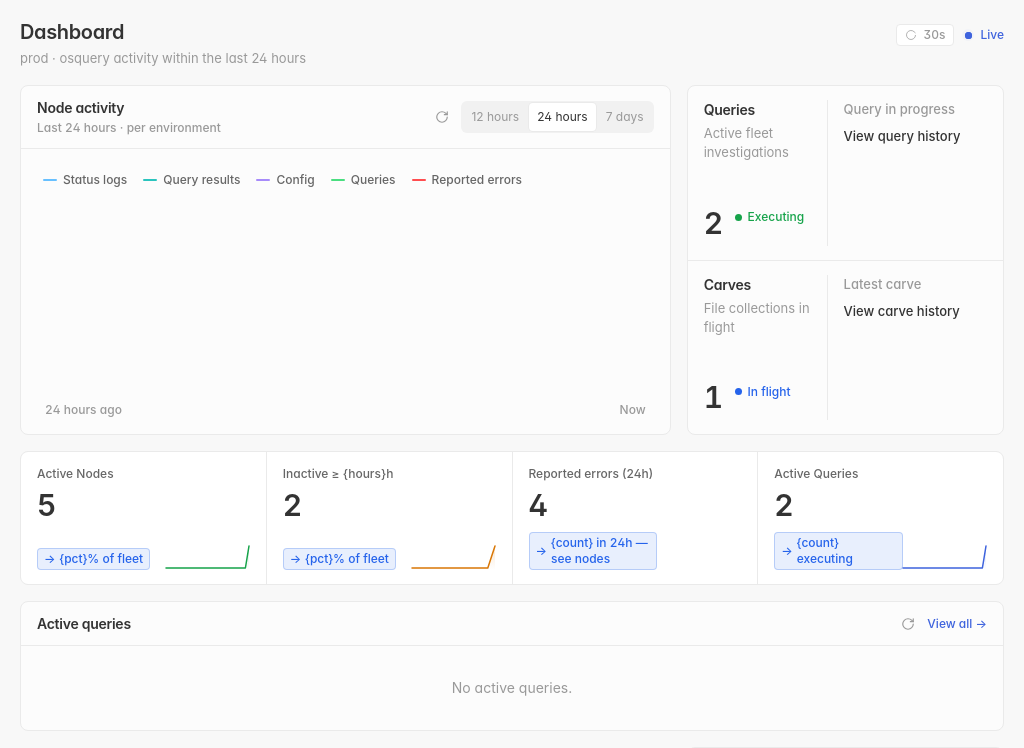
Test: DashboardPage › opens the erroring-nodes drill-down from the tile
Click the button with aria-label "nodes reporting errors": {"x": 635, "y": 518} [512, 452, 757, 584]
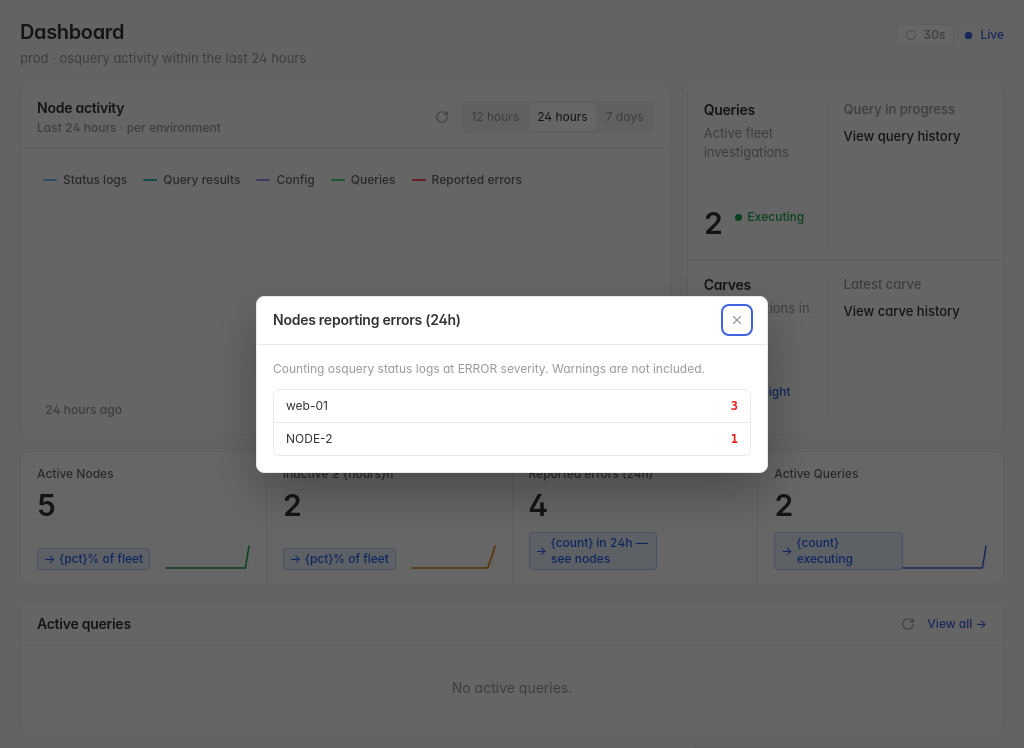
Check: the link "web-01" is shown, box [286, 398, 328, 414]
Check: the link "NODE-2" is shown, box [286, 430, 332, 446]
